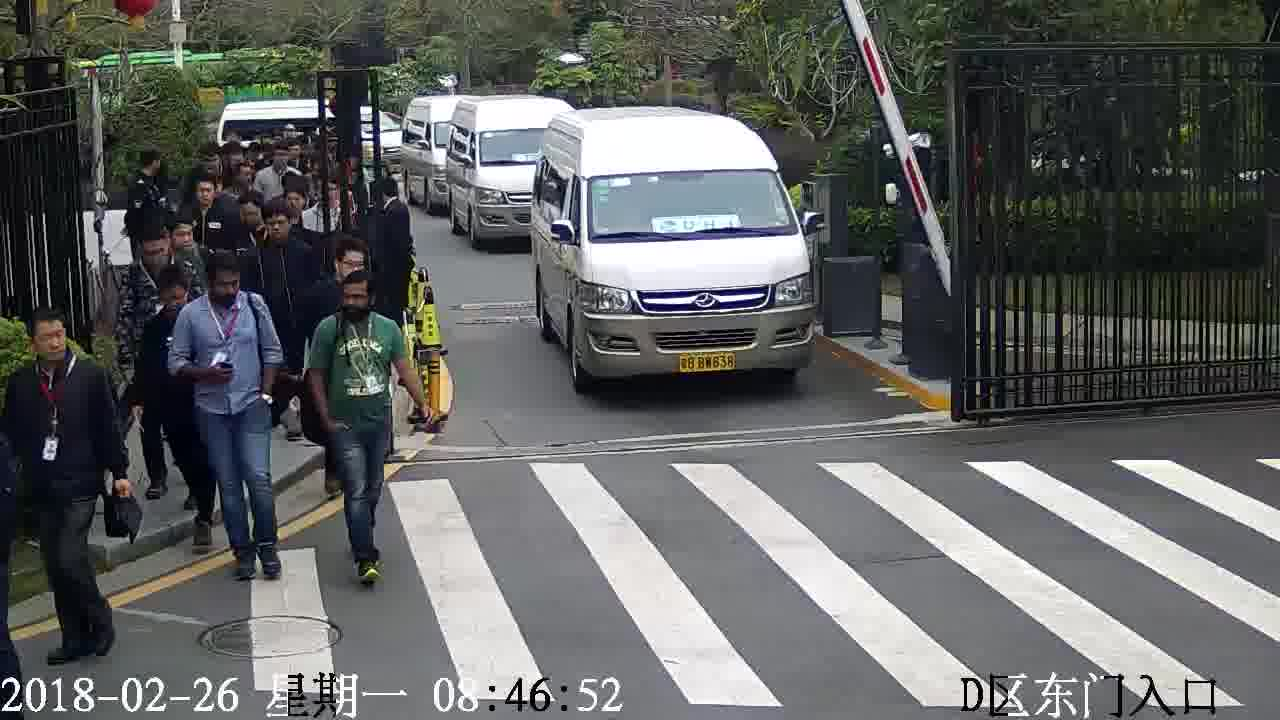face: (30, 319, 72, 361), (337, 279, 371, 318), (336, 247, 365, 280)
person: (11, 310, 108, 395), (181, 248, 272, 329), (313, 268, 405, 348), (116, 223, 179, 291), (312, 232, 371, 302), (256, 201, 317, 259), (145, 263, 197, 330), (186, 167, 237, 226), (216, 155, 265, 213), (361, 172, 410, 227), (163, 214, 210, 271), (257, 136, 309, 187), (225, 196, 276, 246), (130, 145, 166, 194)
